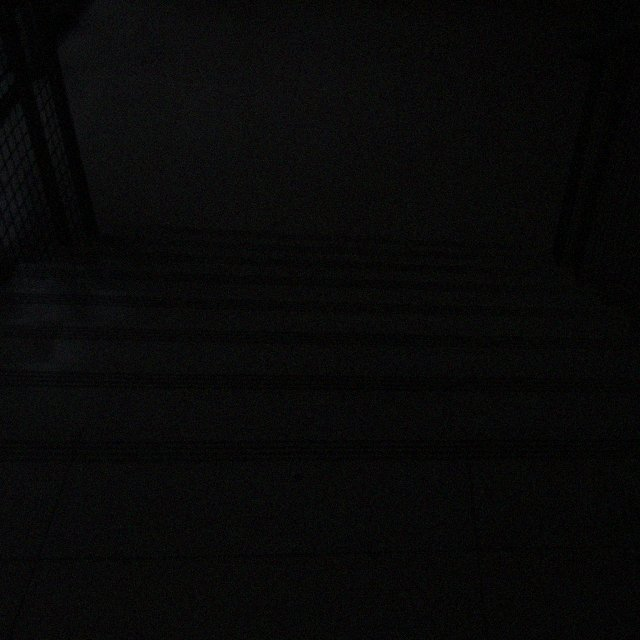stair: (0, 225, 639, 557)
